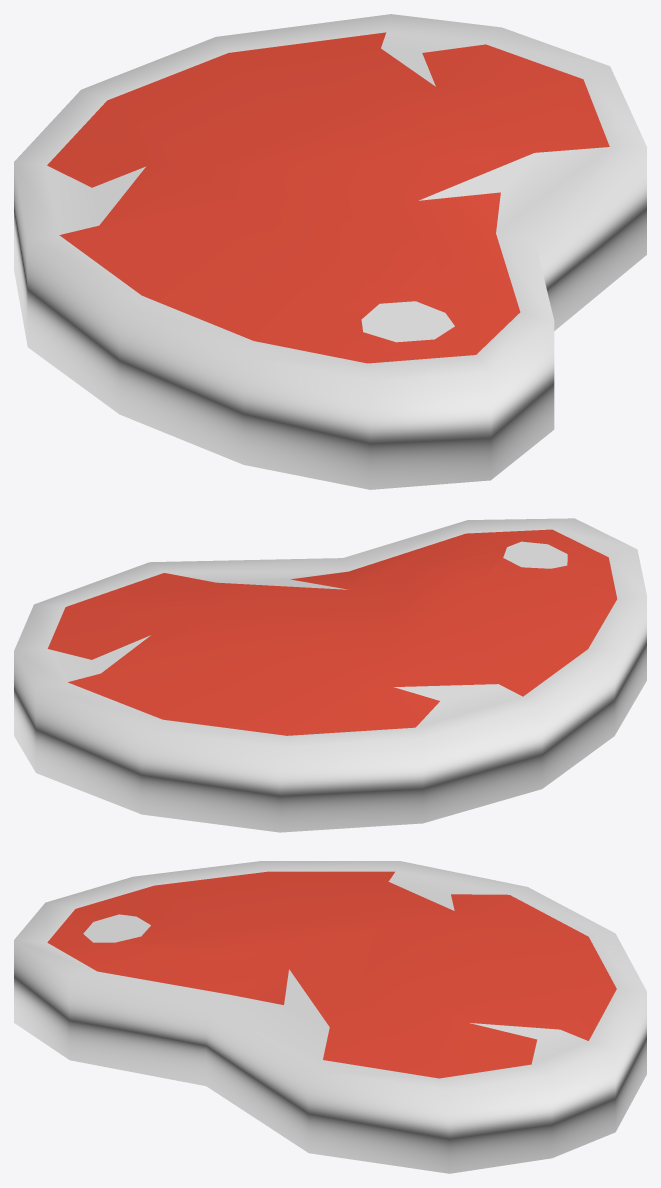
Rendered from item_meat.fbx.
3 views of the same model, one above another, from view 1: azimuth 30°, elevation 25°; view 2: azimuth 150°, elevation 25°; view 3: azimuth 270°, elevation 25° (orthographic). The views are drawn at different scales.
Parts seen in each view (by area): view 1: Sphere.003; view 2: Sphere.003; view 3: Sphere.003.
Boxes of the visible parts, <box> form: Sphere.003: <box>14,14,646,489</box>; Sphere.003: <box>14,518,646,832</box>; Sphere.003: <box>14,861,646,1173</box>.
Bounding box in the file's own units: 223 × 42.5 × 260.
